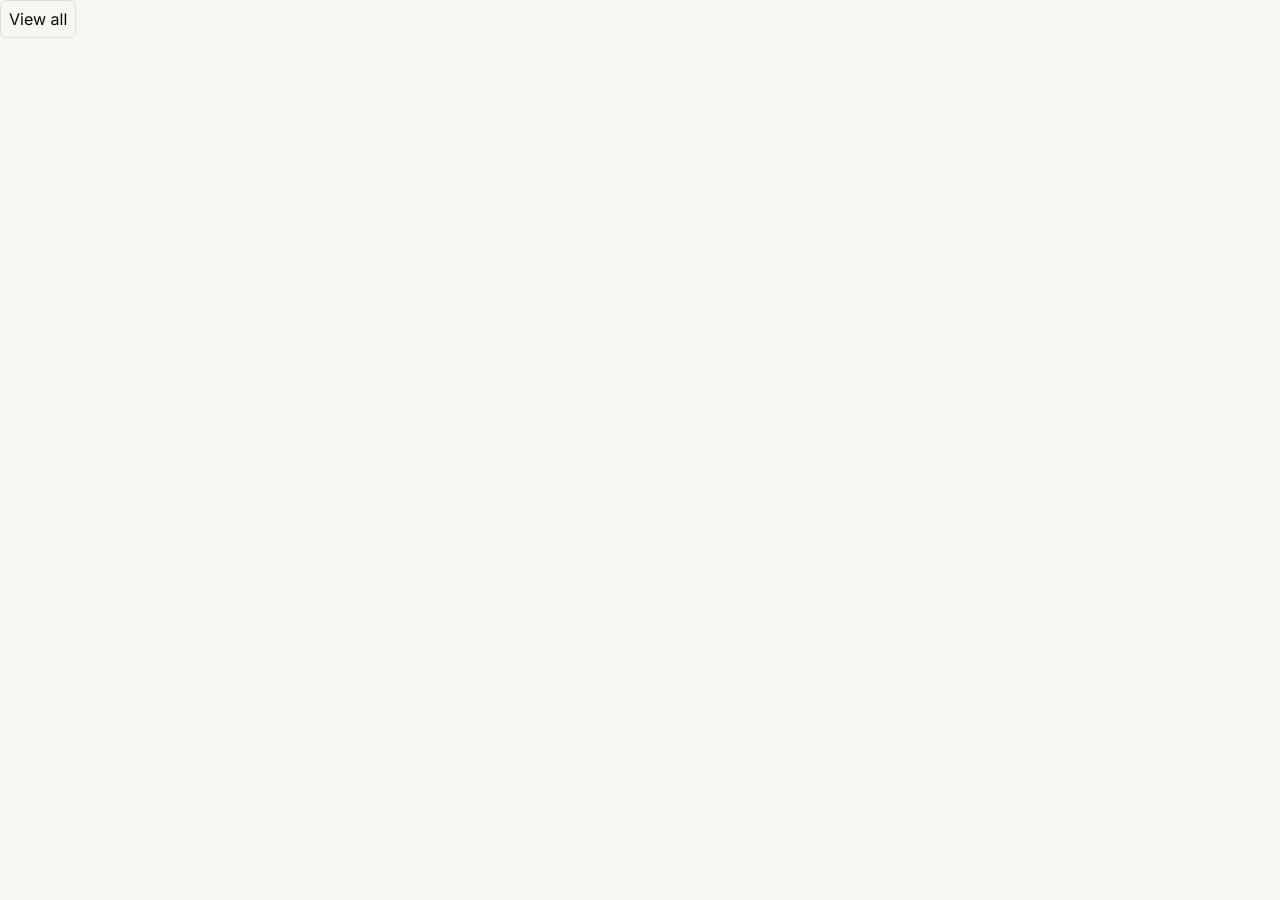
Scenario: loads history only when opened and pages without duplicates
Click the button "View all": x=38, y=19 [0,0,76,38]
(page scrolled)
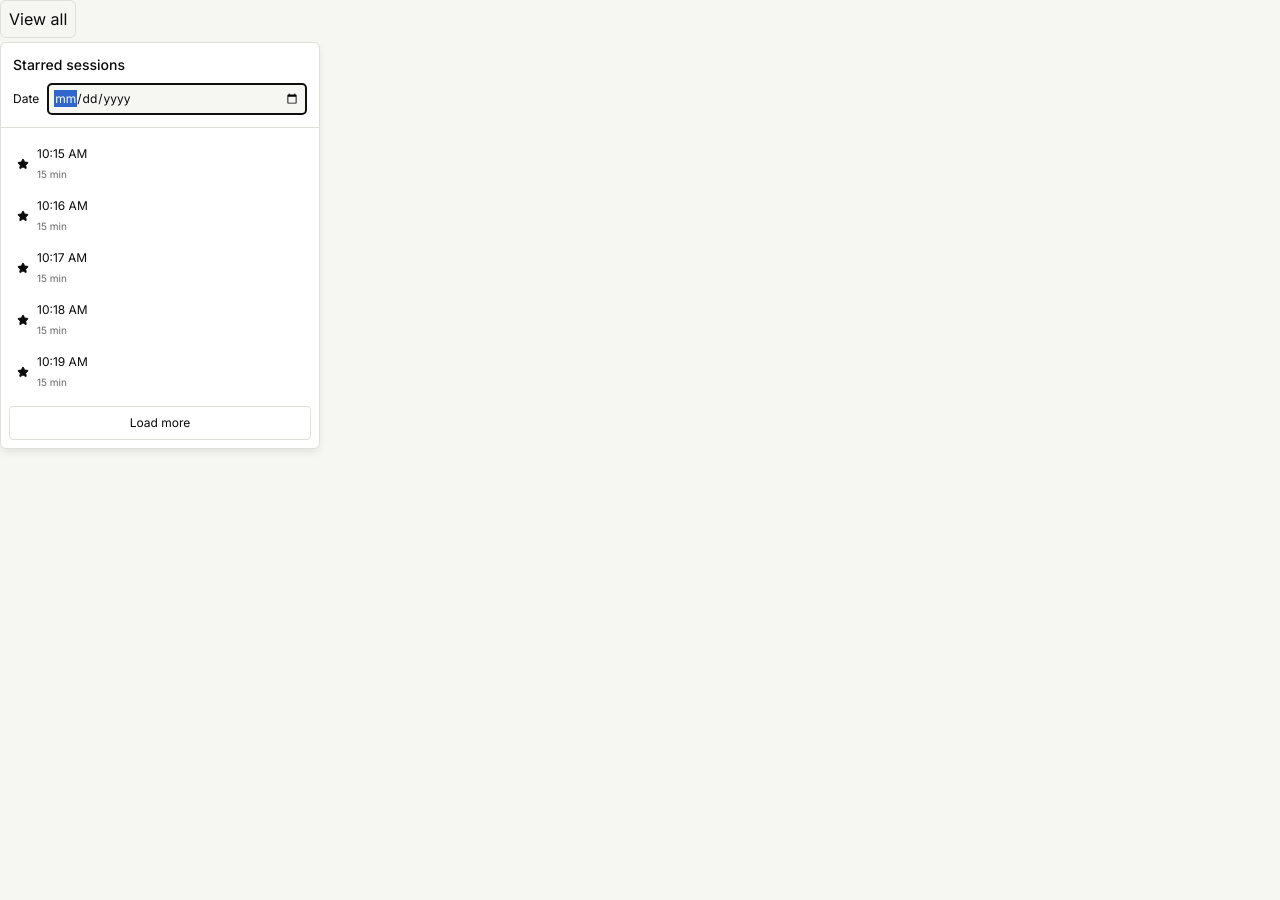
Click the button "Load more": x=160, y=423 [9,406,311,440]
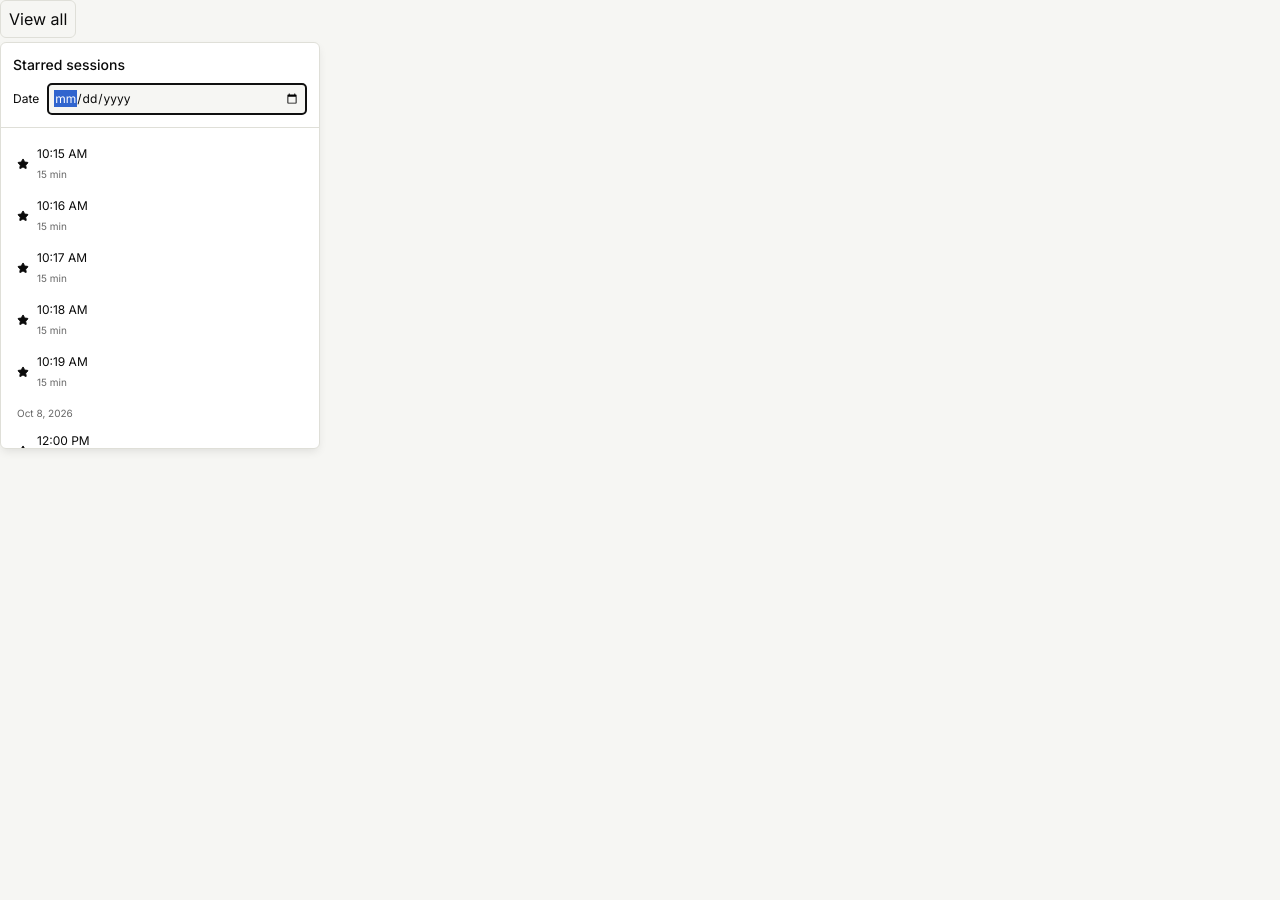
Expected: the button "Load more" is gone
